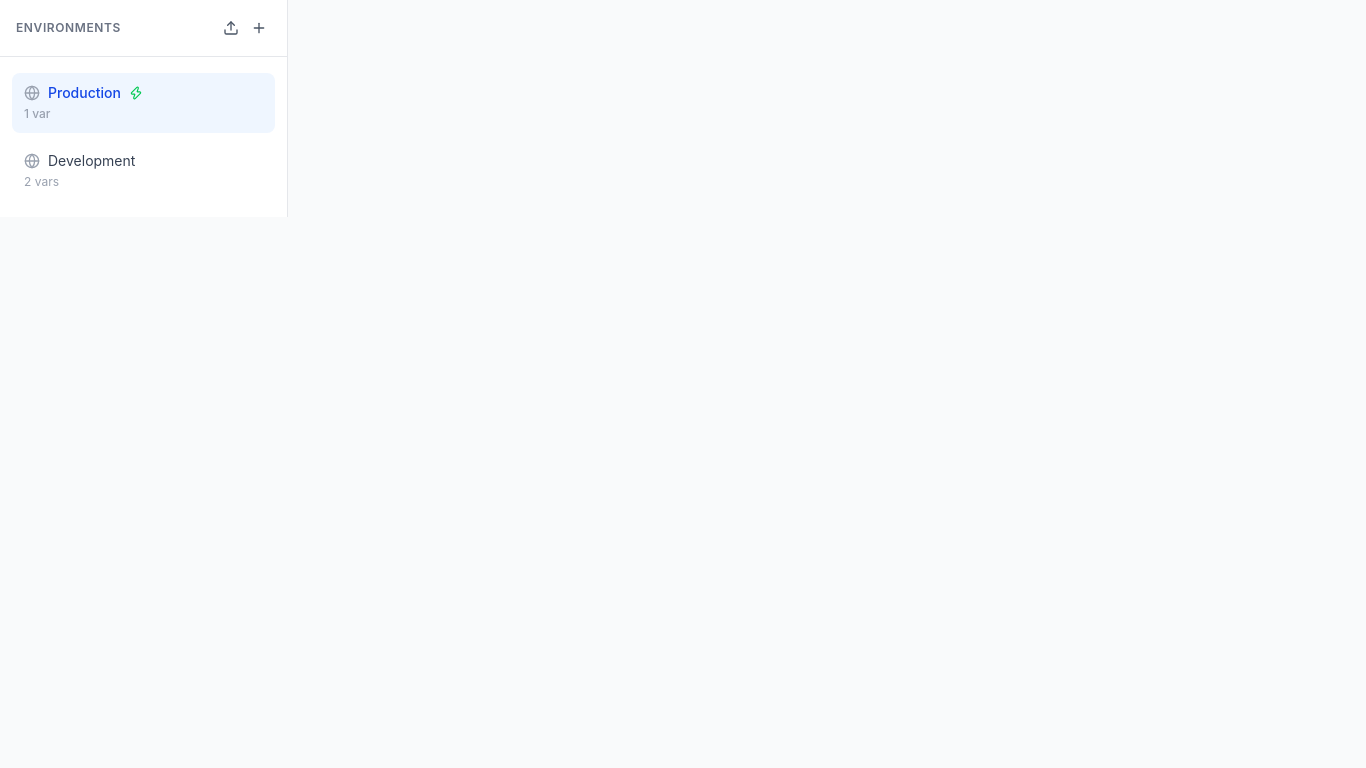
EnvironmentList › opens the rename dialog with the current name pre-filled
Right-click the text "Development": (92, 161) [48,151,135,171]
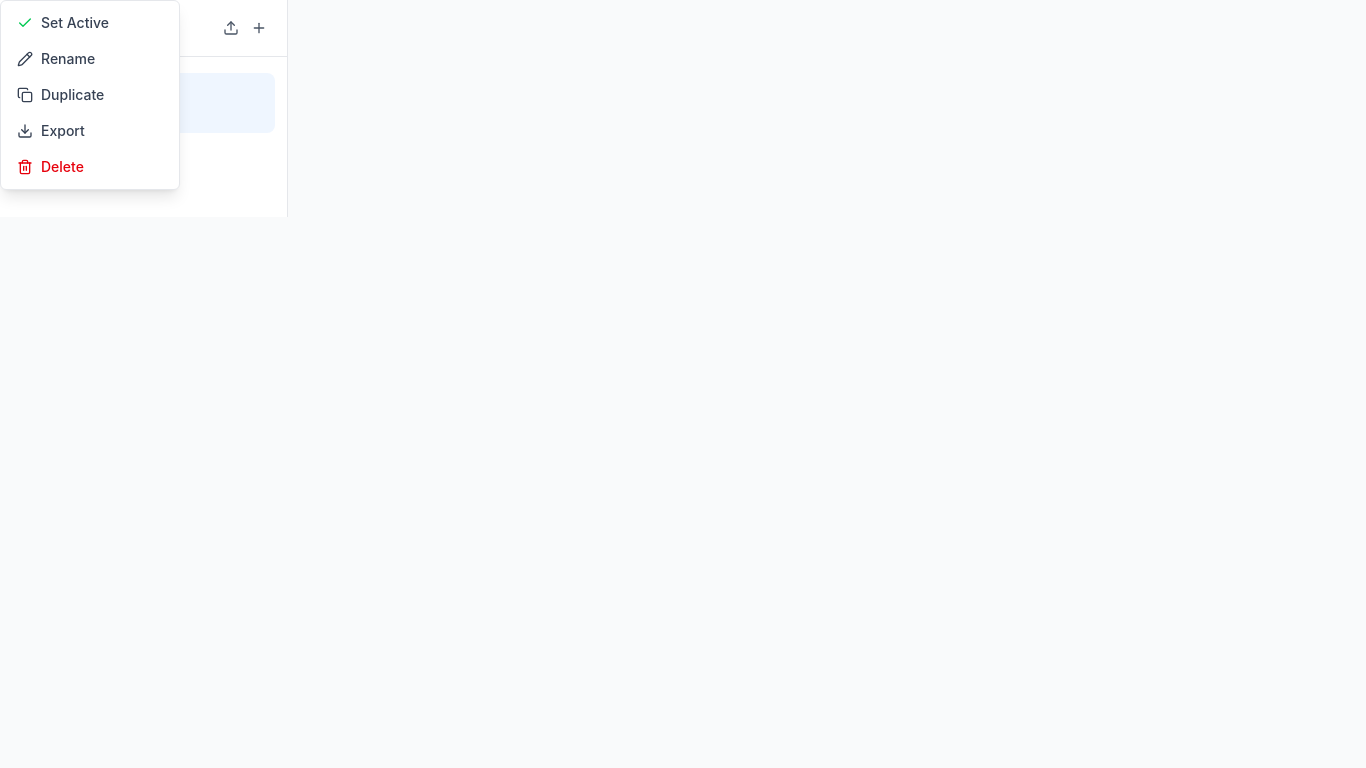
Click the button "Rename": (90, 59) [1,41,179,77]
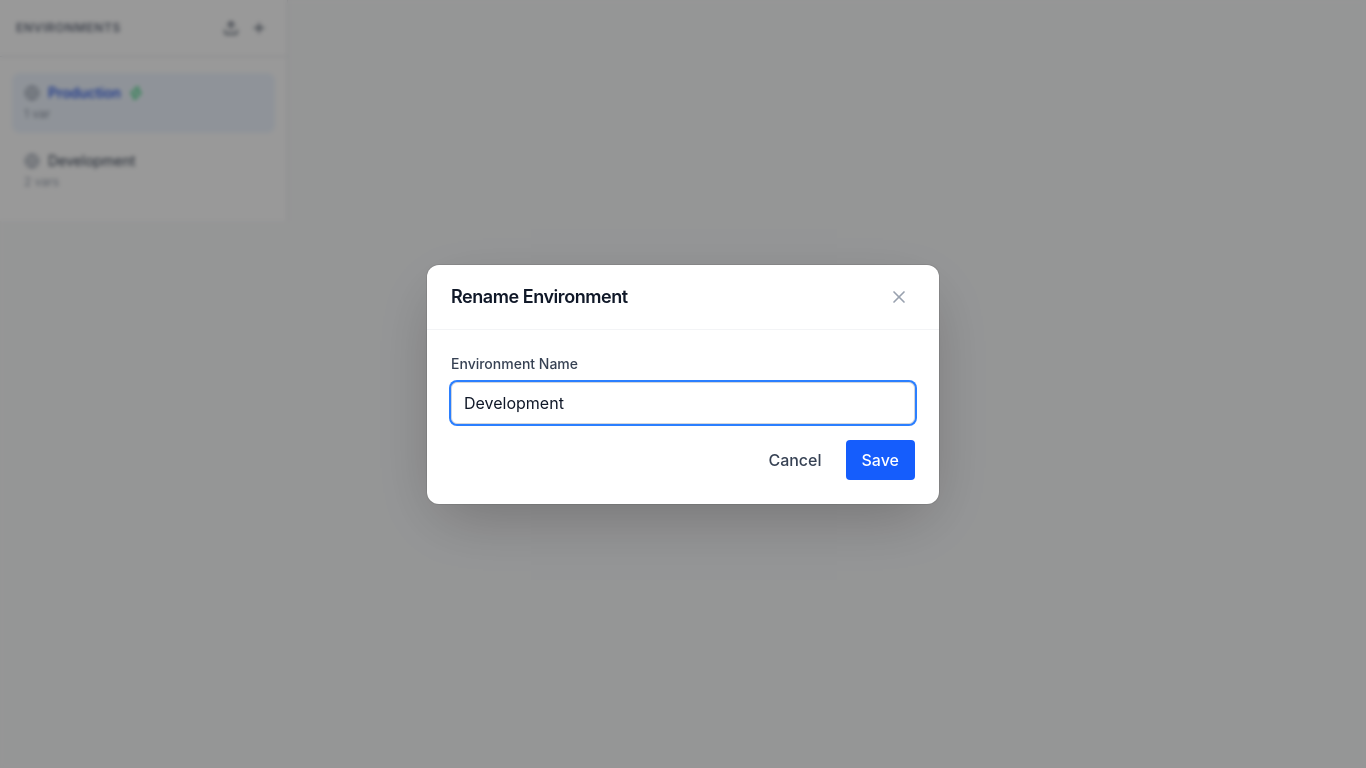
Check: the field showing "Development" is shown, box [451,382,915,424]
